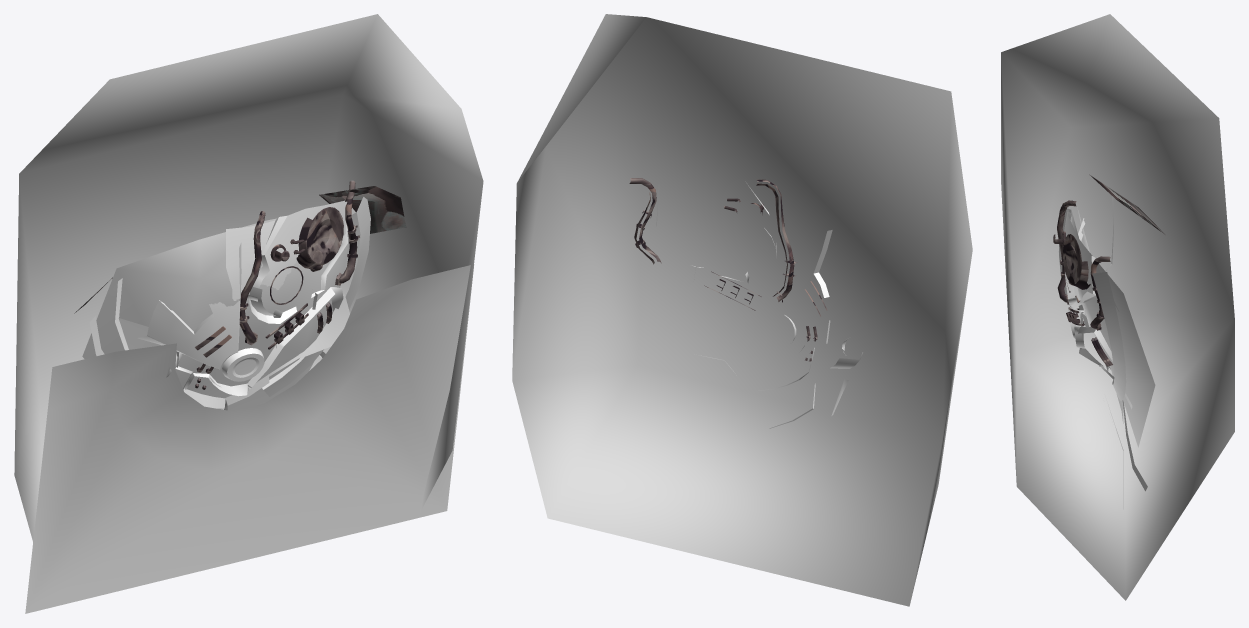
The model's file is toplevel_core_approach.glb.
3 views of the same model, side by side, from view 1: azimuth 30°, elevation 25°; view 2: azimuth 150°, elevation 25°; view 3: azimuth 270°, elevation 25° (orthographic). The views are drawn at different scales.
Visible parts, largest first — view 1: rsrc.world.skybox.core_approach.model_outerbox-Submesh[0], rsrc.world.skybox.core_approach.parts.model_depthfade-MeshNo, rsrc.world.skybox.core_approach.model_core-MeshNodes["core_i, rsrc.world.skybox.core_approach.model_core-MeshNodes["core"], rsrc.world.skybox.core_approach.model_core-MeshNodes["core_c, rsrc.world.skybox.core_approach.model_core-MeshNodes["core_g, rsrc.world.skybox.core_approach.parts.model_smoke_horizon-Me; view 2: rsrc.world.skybox.core_approach.model_outerbox-Submesh[0], rsrc.world.skybox.core_approach.model_core-MeshNodes["core_c, rsrc.world.skybox.core_approach.model_core-MeshNodes["core"]; view 3: rsrc.world.skybox.core_approach.model_outerbox-Submesh[0], rsrc.world.skybox.core_approach.model_core-MeshNodes["core_i, rsrc.world.skybox.core_approach.model_core-MeshNodes["core"], rsrc.world.skybox.core_approach.model_core-MeshNodes["core_c, rsrc.world.skybox.core_approach.model_core-MeshNodes["core_g, rsrc.world.skybox.core_approach.parts.model_smoke_horizon-Me.
Boxes of the visible parts, <box> form: rsrc.world.skybox.core_approach.model_outerbox-Submesh[0]: <box>14,14,483,541</box>; rsrc.world.skybox.core_approach.parts.model_depthfade-MeshNo: <box>25,264,474,613</box>; rsrc.world.skybox.core_approach.model_core-MeshNodes["core_i: <box>82,201,347,411</box>; rsrc.world.skybox.core_approach.model_core-MeshNodes["core"]: <box>106,197,370,396</box>; rsrc.world.skybox.core_approach.model_core-MeshNodes["core_c: <box>195,180,359,389</box>; rsrc.world.skybox.core_approach.model_core-MeshNodes["core_g: <box>183,287,349,408</box>; rsrc.world.skybox.core_approach.parts.model_smoke_horizon-Me: <box>74,186,405,313</box>; rsrc.world.skybox.core_approach.model_outerbox-Submesh[0]: <box>512,14,972,606</box>; rsrc.world.skybox.core_approach.model_core-MeshNodes["core_c: <box>629,178,827,361</box>; rsrc.world.skybox.core_approach.model_core-MeshNodes["core"]: <box>656,184,862,428</box>; rsrc.world.skybox.core_approach.model_outerbox-Submesh[0]: <box>1001,14,1234,600</box>; rsrc.world.skybox.core_approach.model_core-MeshNodes["core_i: <box>1065,208,1155,491</box>; rsrc.world.skybox.core_approach.model_core-MeshNodes["core"]: <box>1058,196,1132,409</box>; rsrc.world.skybox.core_approach.model_core-MeshNodes["core_c: <box>1053,200,1112,366</box>; rsrc.world.skybox.core_approach.model_core-MeshNodes["core_g: <box>1070,291,1108,370</box>; rsrc.world.skybox.core_approach.parts.model_smoke_horizon-Me: <box>1089,174,1165,234</box>.
Size of the model in its own units: 560 by 642 by 300.
7 materials, 3 textured.
